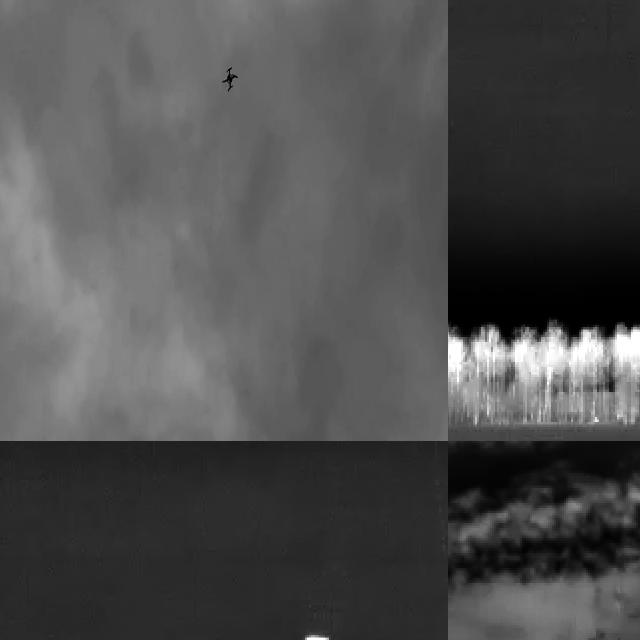1: (298, 627, 342, 640)
drone: (218, 60, 240, 91)
